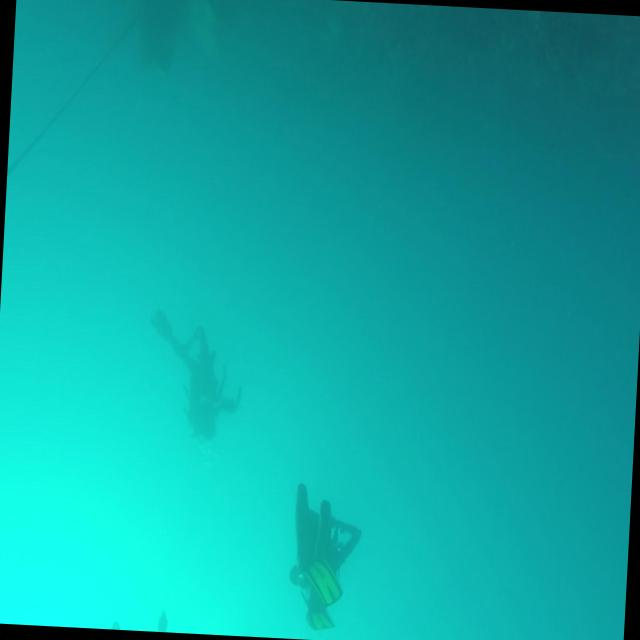human: (144, 309, 246, 452), (286, 482, 364, 634)
